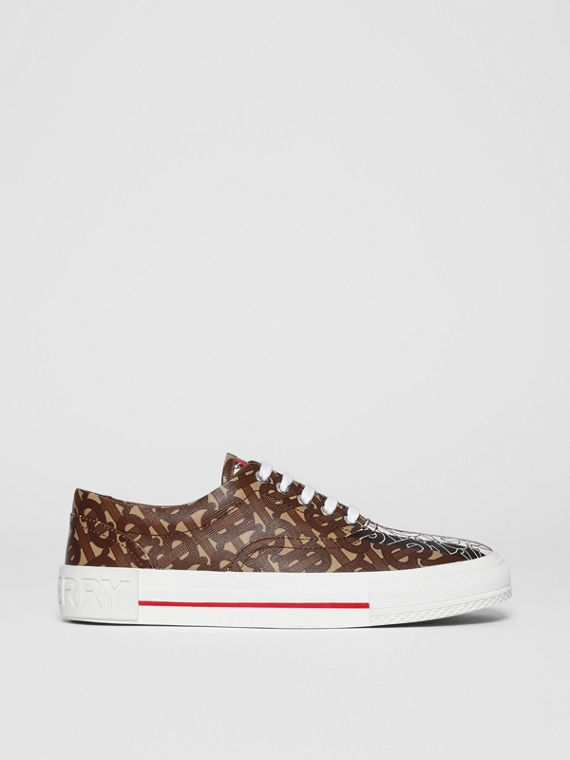shoe: (45, 437, 526, 642)
